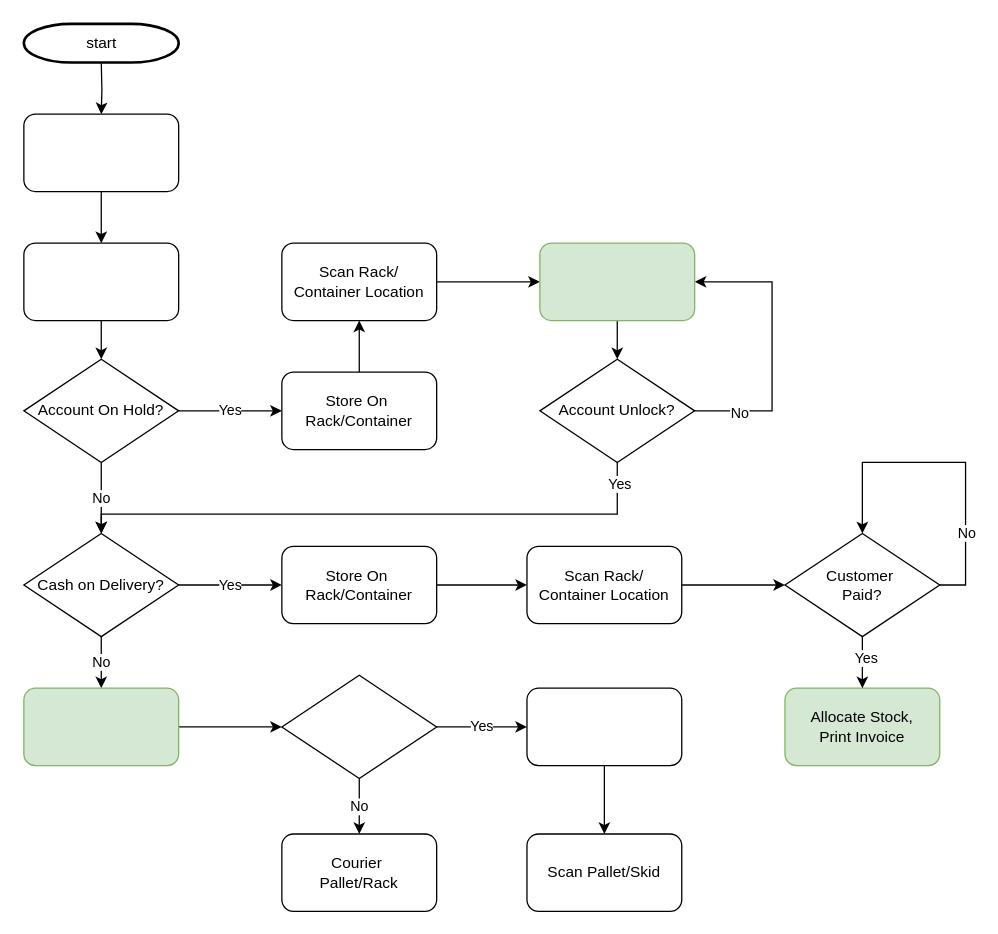
The diagram is 998 pixels wide and 934 high, and some of its shapes have lost their labels. The centre of each missing label's shape, as x and y in pixels:
Allocate Stock, Print Invoice, Print Shipping Label: point (101, 726)
Load onto Pallet: point (604, 726)
Pallet?: point (359, 726)
Scan pick marker: point (101, 281)
Strap the carton: point (101, 152)
Wait Account update in Nexus: point (617, 281)
